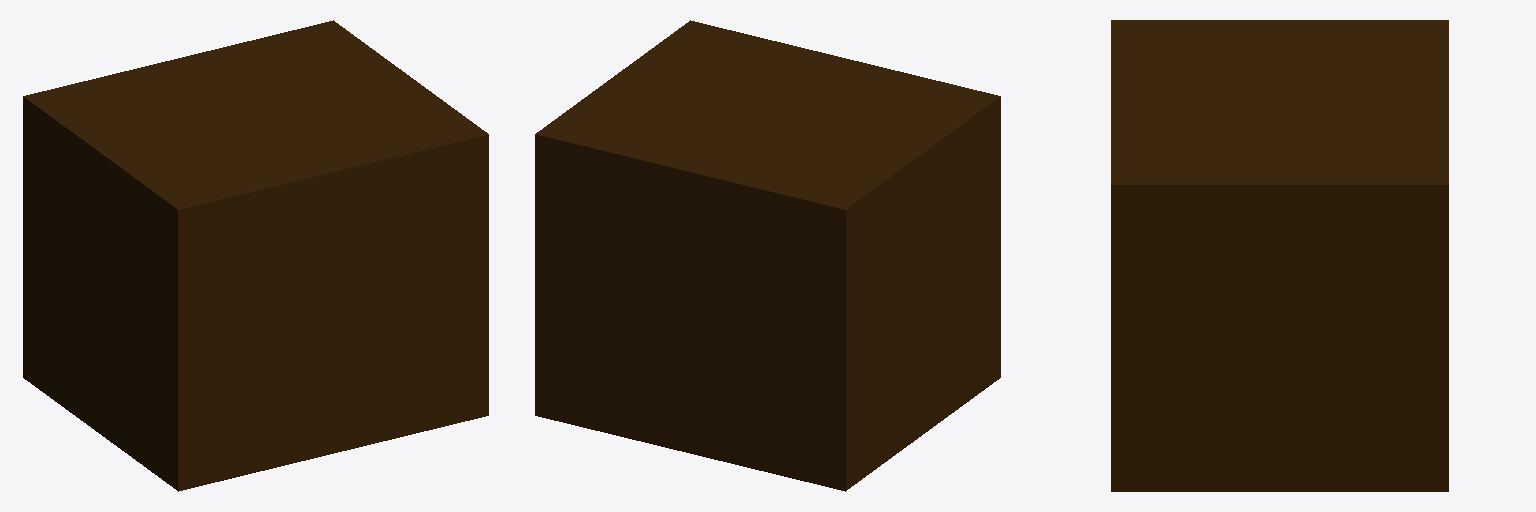
robot.urdf — box2:
<?xml version="1.0" ?>
<robot name="box2">
  <link name="box2_body">
    <visual>
      <origin xyz="0 0 0" rpy="0 0 0"/>
      <geometry>
        <box size="0.150 0.130 0.130"/>
      </geometry>
      <material name="CardBoard">
        <color rgba="0.2667536437511444 0.17454615235328674 0.06440283358097076 1" />
      </material>
    </visual>
    <collision>
      <origin xyz="0 0 0" rpy="0 0 0"/>
      <geometry>
        <box size="0.150 0.130 0.130"/>
      </geometry>
    </collision>
    <inertial>
      <origin xyz="0 0 0" rpy="0 0 0"/>
      <mass value="0.284"/>
      <inertia ixx="0.000864" ixy="0" ixz="0" iyy="0.00100" iyz="0" izz="0.000998" />
    </inertial>
  </link>
</robot>

--- What the picture shows (computed from the rendered views, not written in the file) ---
The picture shows the robot from 3 angles, left to right: view 1: azimuth 30°, elevation 25°; view 2: azimuth 150°, elevation 25°; view 3: azimuth 270°, elevation 25°; orthographic projection.
Robot: box2 — 1 links, 0 joints (none); root link box2_body; default pose: all joints at 0.
Links seen in each view (by area): view 1: box2_body; view 2: box2_body; view 3: box2_body.
Boxes of the visible links, x1,y1,x2,y2 form: box2_body: (23, 20, 488, 491); box2_body: (535, 20, 1000, 491); box2_body: (1111, 20, 1448, 491).
Size in the robot's own frame: 0.15 by 0.13 by 0.13 metres.
Geometry: primitives only (box / cylinder / sphere), no mesh files.